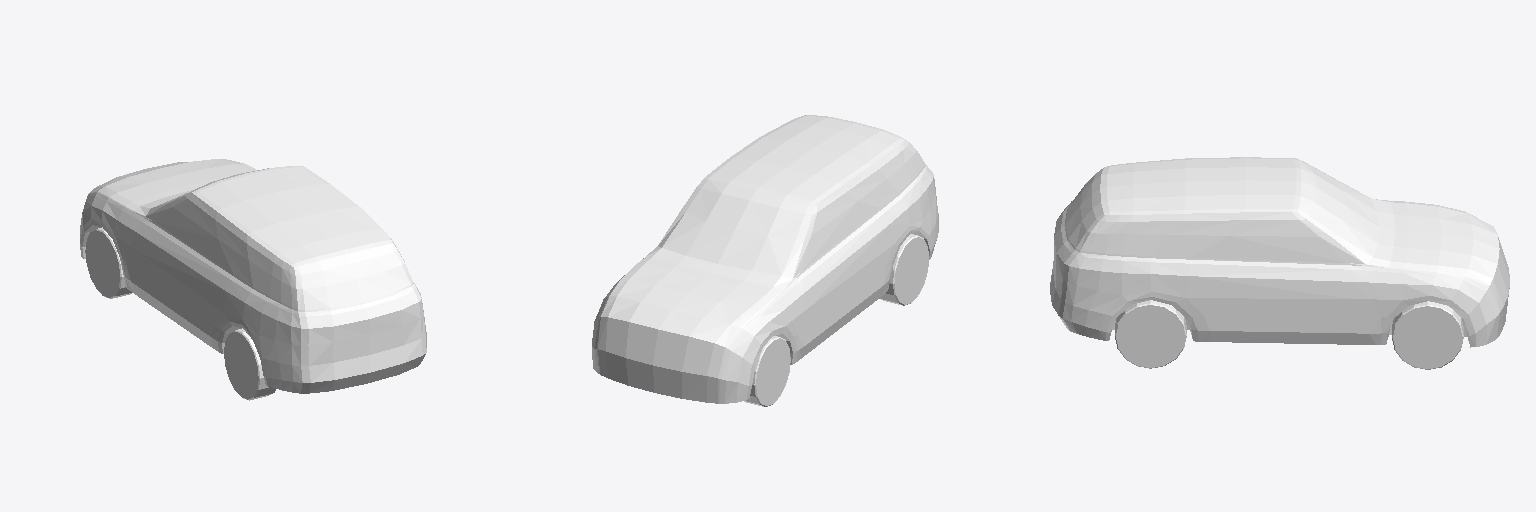
Rendered from SUV.obj.
The picture shows the model from 3 angles: view 1: azimuth 30°, elevation 25°; view 2: azimuth 150°, elevation 25°; view 3: azimuth 270°, elevation 25°; orthographic projection.
Visible parts, largest first — view 1: SUV; view 2: SUV; view 3: SUV.
Part boxes in pixels (x1,y1,x2,y2): SUV: (80,159,426,400); SUV: (592,115,938,406); SUV: (1050,157,1509,369).
Size of the model in its own units: 193 by 173 by 477.